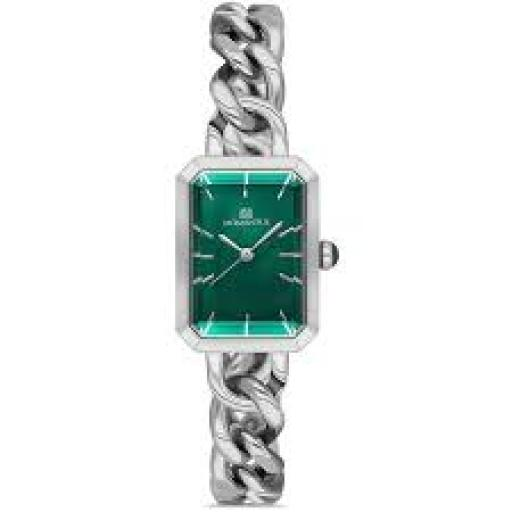KolSaati: (162, 1, 350, 512)
